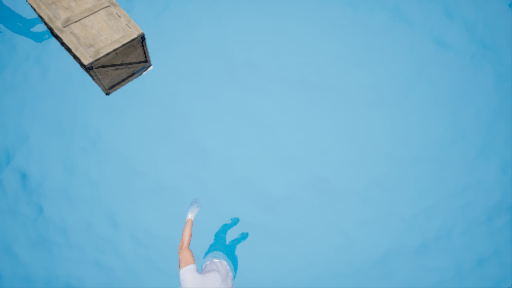person: (174, 193, 257, 288)
